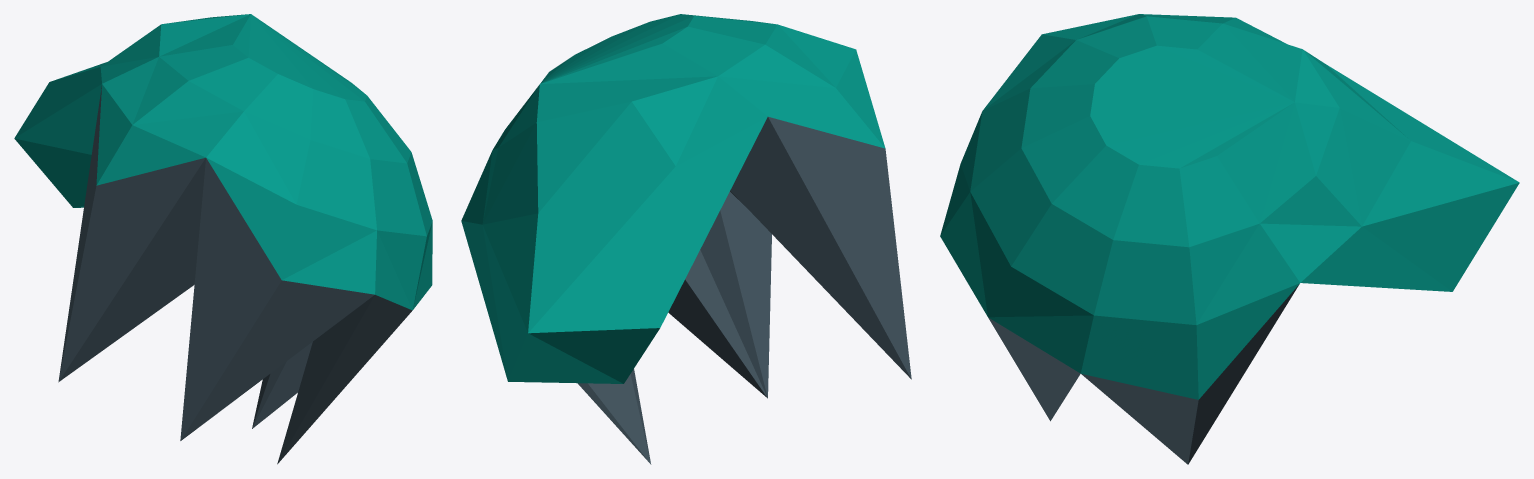
File: n5_n5_group633732848_lev5.001.glb
The picture shows the model from 3 angles, left to right: view 1: azimuth 30°, elevation 25°; view 2: azimuth 150°, elevation 25°; view 3: azimuth 270°, elevation 25°; orthographic projection. The views are drawn at different scales.
Parts seen in each view (by area): view 1: n5_n5_group633732848_lev5.001; view 2: n5_n5_group633732848_lev5.001; view 3: n5_n5_group633732848_lev5.001.
Boxes of the visible parts, x1,y1,x2,y2 form: n5_n5_group633732848_lev5.001: (14, 14, 432, 464); n5_n5_group633732848_lev5.001: (461, 14, 911, 464); n5_n5_group633732848_lev5.001: (940, 14, 1519, 464).
Bounding box in the file's own units: 1.44 × 1.48 × 1.9.
